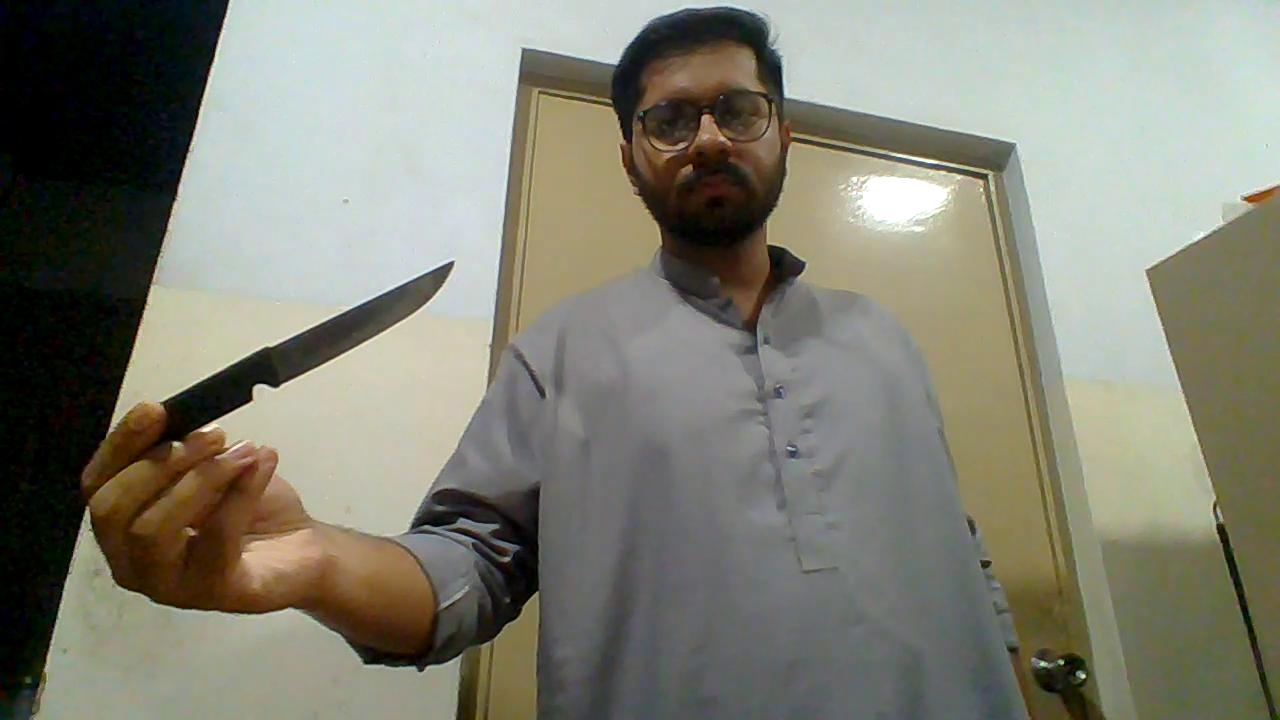criminal: (80, 0, 1036, 720)
weapon: (150, 254, 457, 445)
